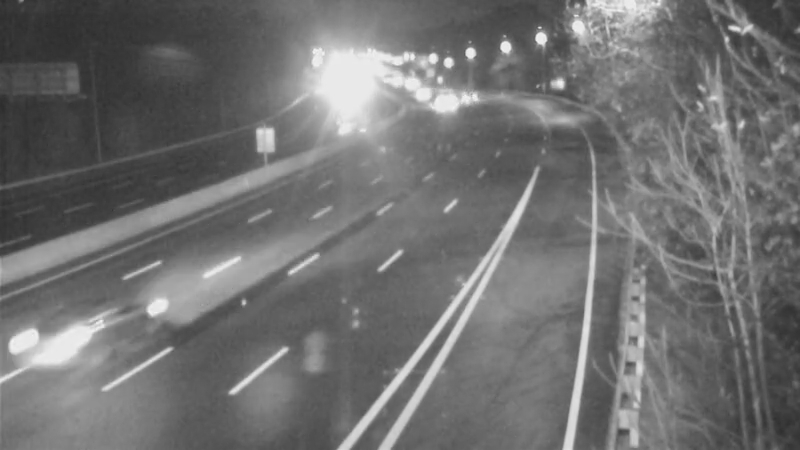vehicle: (1, 292, 107, 402)
